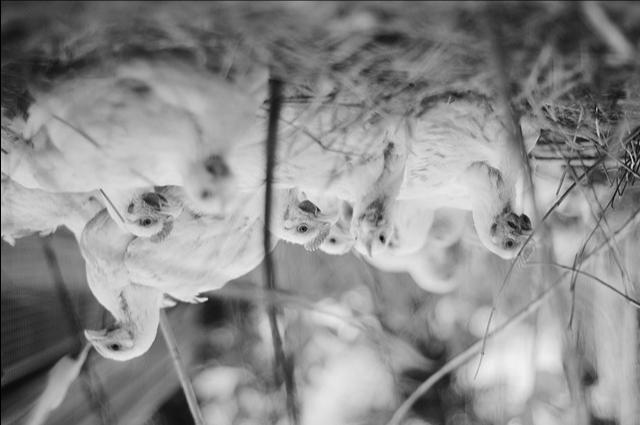Non_Gorille: (0, 4, 640, 421)
